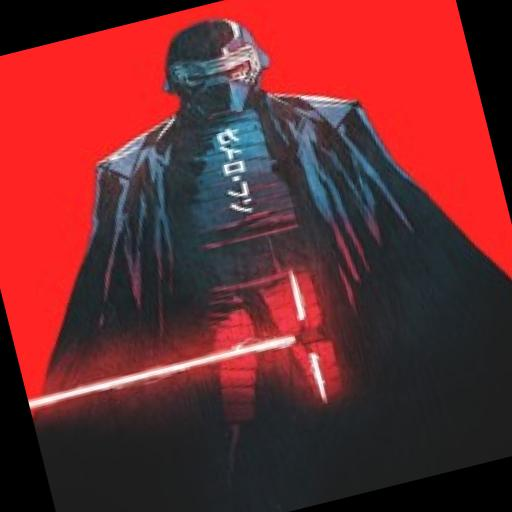sith saber: (14, 260, 366, 466)
